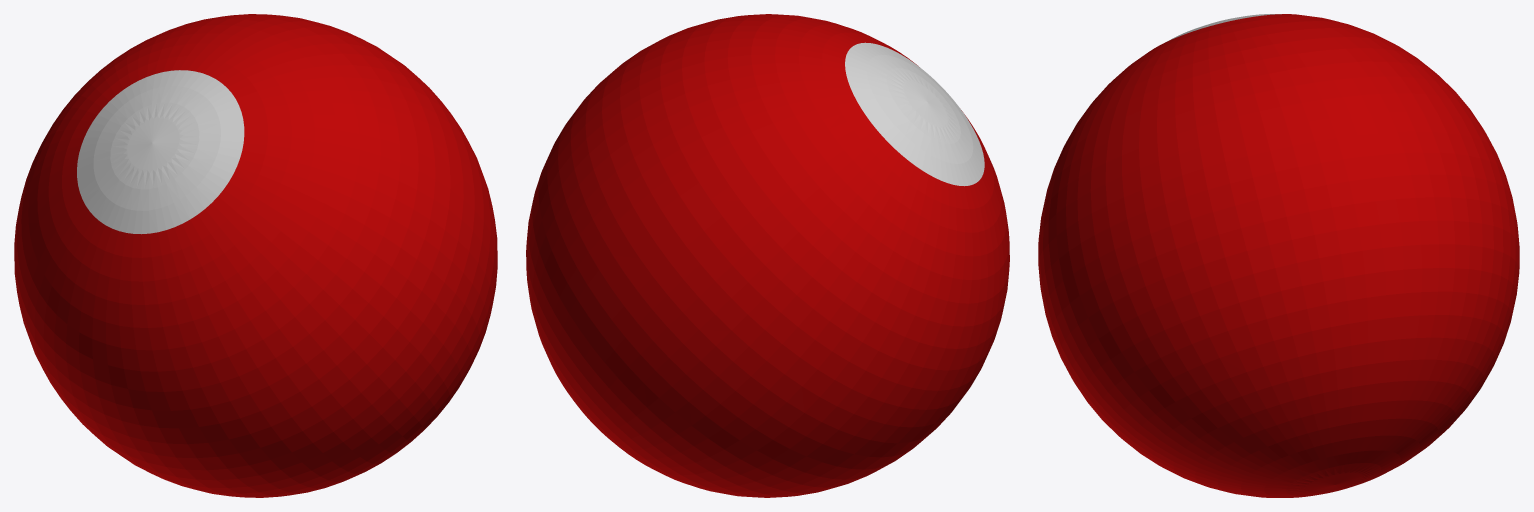
Rendered from 3_ball.obj.
The picture shows the model from 3 angles, left to right: view 1: azimuth 30°, elevation 25°; view 2: azimuth 150°, elevation 25°; view 3: azimuth 270°, elevation 25°; orthographic projection.
Visible parts, largest first — view 1: Solid.012; view 2: Solid.012; view 3: Solid.012.
Boxes of the visible parts, x1,y1,x2,y2 form: Solid.012: [14, 14, 497, 497]; Solid.012: [526, 14, 1009, 497]; Solid.012: [1038, 14, 1519, 497].
Size of the model in its own units: 0.0788 by 0.0788 by 0.0785.
